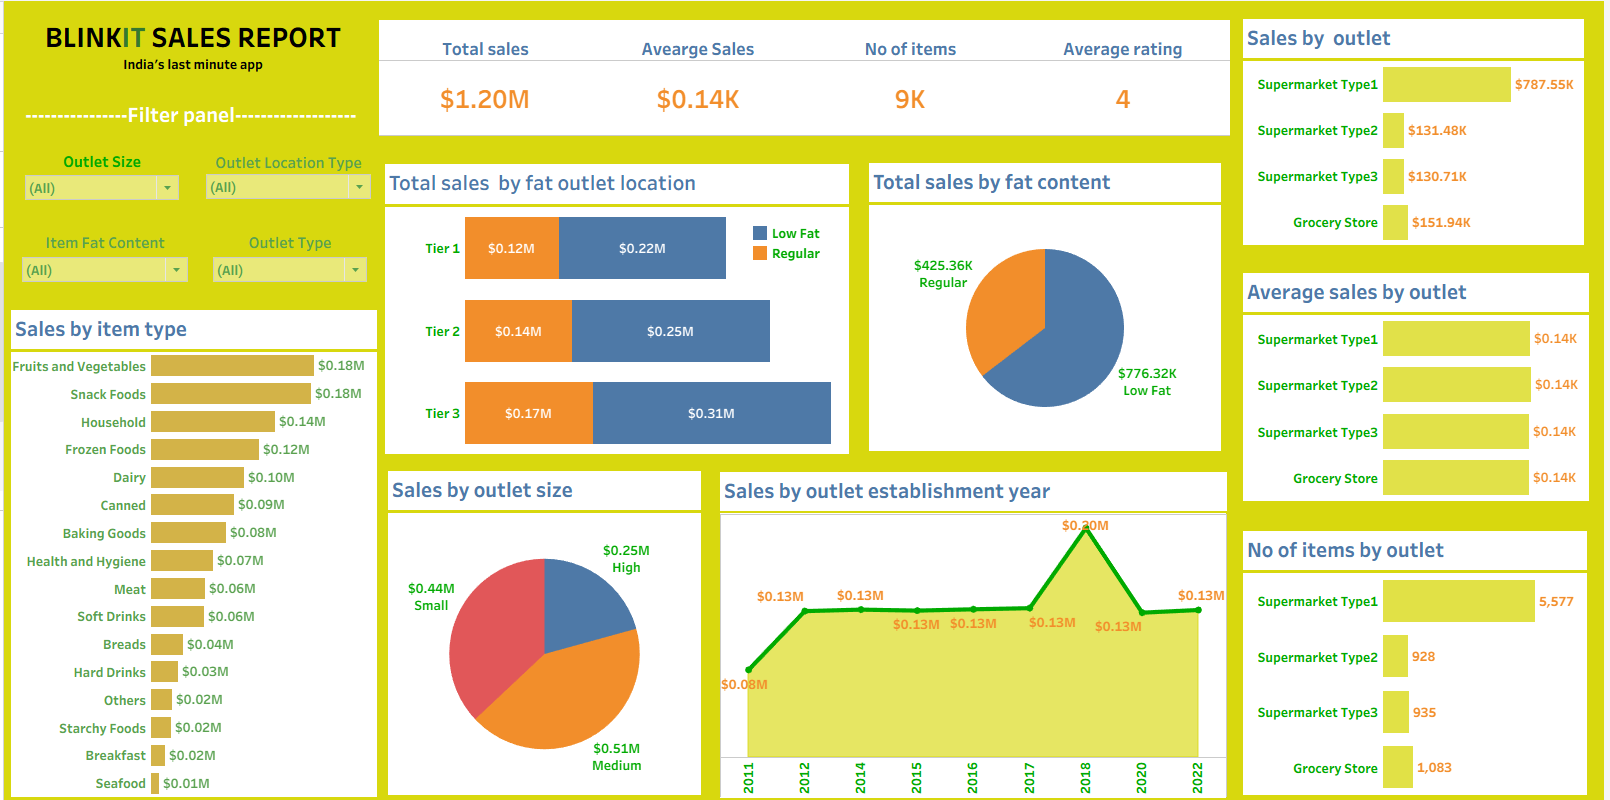

This screenshot's page, from the dashboard's own definition file:
{"tool":"tableau","page":{"name":"Dashboard 1","canvas":[1600,900],"ordinal":0},"visuals":[{"type":"text","box":[9,17,360,55]},{"type":"worksheet","title":"Sales by  outlet","mark":"Automatic","rows":["Outlet Type"],"cols":["Sales"],"box":[1239,18,341,226]},{"type":"worksheet","title":"KPIs","mark":"Automatic","box":[375,19,851,116]},{"type":"text","box":[18,97,338,32]},{"type":"filter","title":"Sales by outlet size","param":"[federated.0jglq1o00j62sf11ybazq0xydvm4].[none:Outlet Size:nk]","box":[18,150,160,51]},{"type":"filter","title":"Sales by outlet size","param":"[federated.0jglq1o00j62sf11ybazq0xydvm4].[none:Outlet Location Type:nk]","box":[199,151,171,47]},{"type":"worksheet","title":"Total sales by fat content","mark":"Pie","box":[865,162,352,288]},{"type":"worksheet","title":"Total sales  by fat outlet location  ","mark":"Bar","rows":["Outlet Location Type"],"cols":["Calculation_2265592449777664"],"box":[381,163,464,290]},{"type":"legend","title":"Total sales  by fat outlet location  ","param":"[federated.0jglq1o00j62sf11ybazq0xydvm4].[none:Item Fat Content:nk]","box":[746,222,86,51]},{"type":"filter","title":"Sales by outlet size","param":"[federated.0jglq1o00j62sf11ybazq0xydvm4].[none:Item Fat Content:nk]","box":[15,231,172,54]},{"type":"filter","title":"Sales by outlet size","param":"[federated.0jglq1o00j62sf11ybazq0xydvm4].[none:Outlet Type:nk]","box":[206,231,160,53]},{"type":"worksheet","title":"Average sales by outlet","mark":"Automatic","rows":["Outlet Type"],"cols":["Sales"],"box":[1239,272,346,228]},{"type":"worksheet","title":"Sales by item type","mark":"Automatic","rows":["Item Type"],"cols":["Calculation_2265592449777664"],"box":[7,309,366,487]},{"type":"legend","title":"Sales by  outlet","param":"[federated.0jglq1o00j62sf11ybazq0xydvm4].[none:Item Fat Content:nk]","box":[1480,375,88,52]},{"type":"worksheet","title":"Sales by outlet size","mark":"Pie","box":[384,470,313,324]},{"type":"worksheet","title":"Sales by outlet establishment year","mark":"Area","rows":["Calculation_2265592449777664","Calculation_2265592449777664"],"cols":["Outlet Establishment Year"],"box":[716,471,507,326]},{"type":"worksheet","title":"No of items by outlet","mark":"Automatic","rows":["Outlet Type"],"cols":["Sales"],"box":[1239,530,344,264]}]}

Visuals, with their boxes on the page's 1600x900 design canvas (x1, y1, x2, y2). These are canvas units, not pixel positions in the 1610x800 screenshot, which may show the page scaled, cropped or inside an application window:
text: BBox(9, 17, 369, 72)
"Sales by  outlet" worksheet: BBox(1239, 18, 1580, 244)
"KPIs" worksheet: BBox(375, 19, 1226, 135)
text: BBox(18, 97, 356, 129)
"Sales by outlet size" filter: BBox(18, 150, 178, 201)
"Sales by outlet size" filter: BBox(199, 151, 370, 198)
"Total sales by fat content" worksheet (Pie marks): BBox(865, 162, 1217, 450)
"Total sales  by fat outlet location  " worksheet (Bar marks): BBox(381, 163, 845, 453)
"Total sales  by fat outlet location  " legend: BBox(746, 222, 832, 273)
"Sales by outlet size" filter: BBox(15, 231, 187, 285)
"Sales by outlet size" filter: BBox(206, 231, 366, 284)
"Average sales by outlet" worksheet: BBox(1239, 272, 1585, 500)
"Sales by item type" worksheet: BBox(7, 309, 373, 796)
"Sales by  outlet" legend: BBox(1480, 375, 1568, 427)
"Sales by outlet size" worksheet (Pie marks): BBox(384, 470, 697, 794)
"Sales by outlet establishment year" worksheet (Area marks): BBox(716, 471, 1223, 797)
"No of items by outlet" worksheet: BBox(1239, 530, 1583, 794)
